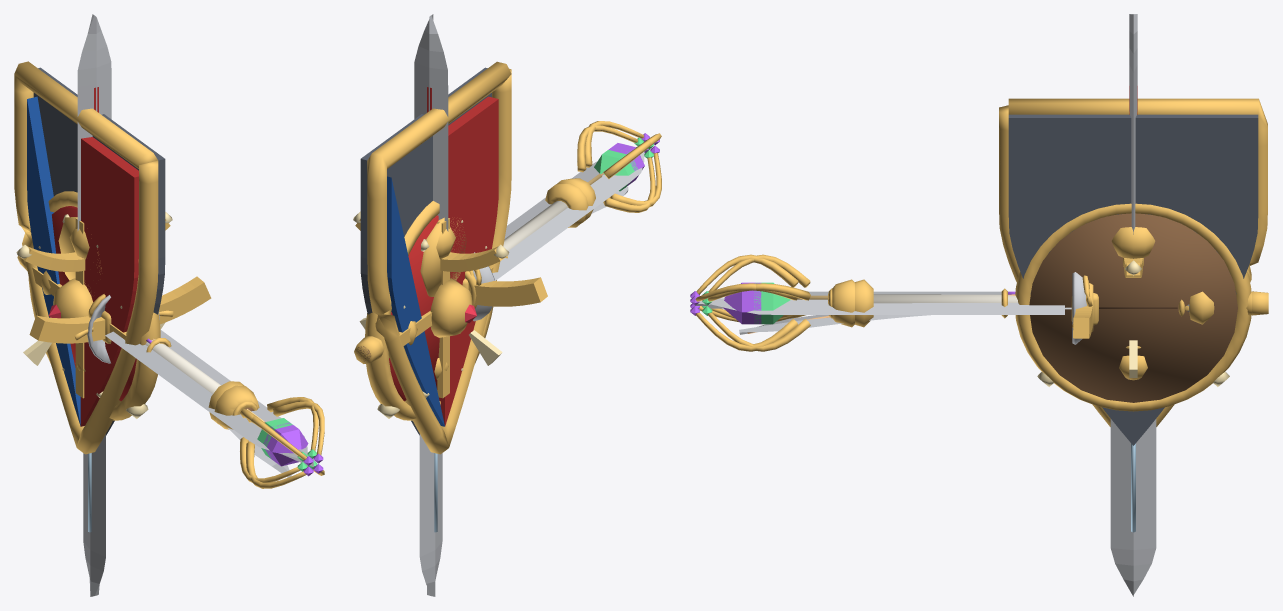
File: Weapons.glb
3 renders of one model, left to right at view 1: azimuth 30°, elevation 25°; view 2: azimuth 150°, elevation 25°; view 3: azimuth 270°, elevation 25°, orthographic.
Visible parts, largest first — view 1: WpnTankShield__Gold_1, WpnTankShield__Crimson_1, WpnWarriorShield__Gold_1, WpnTankShield__SteelDark_1, WpnTankShield__Blue_1, WpnTrueWarrior__Steel_1, WpnTrueWarrior__Gold_1, WpnWarriorSword__Steel_1, WpnMage__Gold_1, WpnTankSword__Steel_1, WpnSupporter__Gold_1, WpnMage__Arcane_1 (+7 smaller); view 2: WpnTankShield__Gold_1, WpnTankShield__Crimson_1, WpnWarriorShield__Gold_1, WpnTankShield__SteelDark_1, WpnTankShield__Blue_1, WpnWarriorSword__Steel_1, WpnTrueWarrior__Steel_1, WpnTankSword__Steel_1, WpnSupporter__Gold_1, WpnMage__Gold_1, WpnTrueWarrior__Gold_1, WpnWarriorShield__Crimson_1 (+7 smaller); view 3: WpnTankShield__SteelDark_1, WpnWarriorShield__Wood_1, WpnTankShield__Gold_1, WpnWarriorShield__Gold_1, WpnTankSword__Steel_1, WpnTrueWarrior__Steel_1, WpnMage__Gold_1, WpnSupporter__Gold_1, WpnTrueWarrior__Gold_1, WpnWarriorSword__Steel_1, WpnMage__Arcane_1, WpnSupporter__Ivory_1 (+3 smaller).
Part boxes in pixels (bbox=[...]): WpnTankShield__Gold_1: bbox=[14, 61, 158, 454]; WpnTankShield__Crimson_1: bbox=[80, 137, 138, 426]; WpnWarriorShield__Gold_1: bbox=[28, 191, 160, 420]; WpnTankShield__SteelDark_1: bbox=[33, 67, 165, 435]; WpnTankShield__Blue_1: bbox=[27, 96, 80, 426]; WpnTrueWarrior__Steel_1: bbox=[105, 329, 307, 465]; WpnTrueWarrior__Gold_1: bbox=[29, 270, 211, 343]; WpnWarriorSword__Steel_1: bbox=[77, 14, 111, 231]; WpnMage__Gold_1: bbox=[17, 255, 324, 488]; WpnTankSword__Steel_1: bbox=[83, 434, 105, 596]; WpnSupporter__Gold_1: bbox=[24, 262, 318, 482]; WpnMage__Arcane_1: bbox=[146, 338, 323, 476]; WpnTankShield__Gold_1: bbox=[367, 61, 511, 454]; WpnTankShield__Crimson_1: bbox=[439, 96, 498, 426]; WpnWarriorShield__Gold_1: bbox=[365, 201, 496, 420]; WpnTankShield__SteelDark_1: bbox=[360, 67, 491, 435]; WpnTankShield__Blue_1: bbox=[387, 176, 444, 426]; WpnWarriorSword__Steel_1: bbox=[414, 14, 448, 231]; WpnTrueWarrior__Steel_1: bbox=[492, 146, 644, 280]; WpnTankSword__Steel_1: bbox=[419, 434, 442, 596]; WpnSupporter__Gold_1: bbox=[364, 125, 655, 357]; WpnMage__Gold_1: bbox=[354, 121, 661, 363]; WpnTrueWarrior__Gold_1: bbox=[408, 277, 547, 345]; WpnWarriorShield__Crimson_1: bbox=[389, 215, 439, 401]; WpnTankShield__SteelDark_1: bbox=[1008, 114, 1258, 445]; WpnWarriorShield__Wood_1: bbox=[1029, 213, 1237, 402]; WpnTankShield__Gold_1: bbox=[999, 98, 1267, 426]; WpnWarriorShield__Gold_1: bbox=[1015, 203, 1251, 411]; WpnTankSword__Steel_1: bbox=[1110, 419, 1156, 596]; WpnTrueWarrior__Steel_1: bbox=[707, 291, 1064, 314]; WpnMage__Gold_1: bbox=[695, 254, 1268, 351]; WpnSupporter__Gold_1: bbox=[707, 254, 1251, 351]; WpnTrueWarrior__Gold_1: bbox=[1071, 291, 1214, 338]; WpnWarriorSword__Steel_1: bbox=[1129, 14, 1137, 234]; WpnMage__Arcane_1: bbox=[690, 282, 1015, 324]; WpnSupporter__Ivory_1: bbox=[873, 294, 1018, 303].
Bounding box in the file's own units: 2.51 × 7.97 × 7.19.
